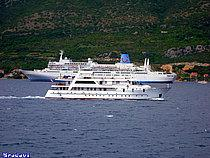Ship: (42, 61, 179, 105)
